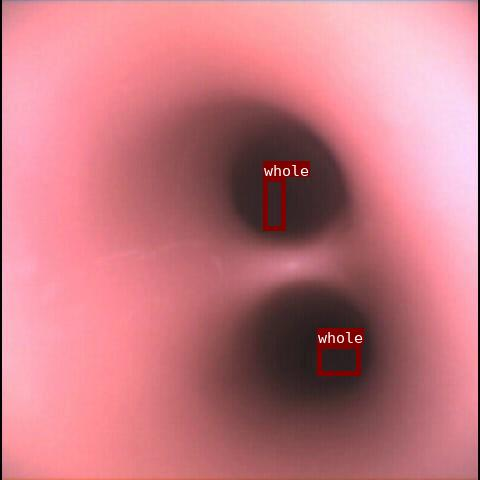whole: (317, 344, 360, 375), (263, 177, 285, 230)
